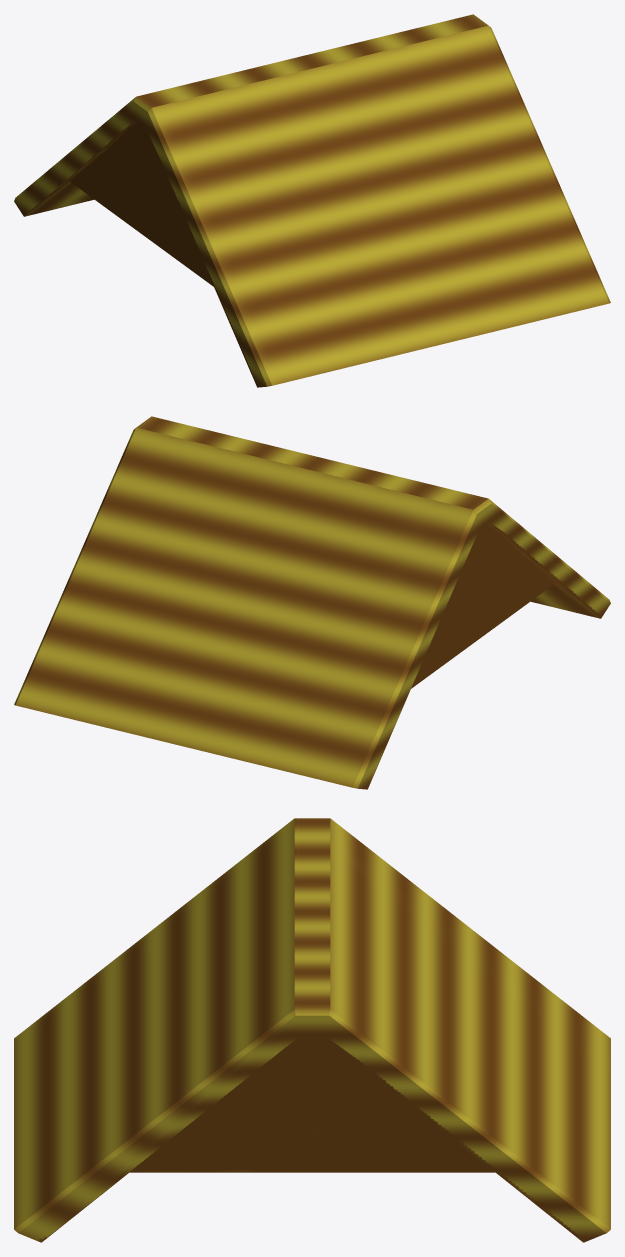
The model's file is LongRoof.glb.
3 views of the same model, one above another, from view 1: azimuth 30°, elevation 25°; view 2: azimuth 150°, elevation 25°; view 3: azimuth 270°, elevation 25° (orthographic). The views are drawn at different scales.
Visible parts, largest first — view 1: LongRoof; view 2: LongRoof; view 3: LongRoof.
Boxes of the visible parts, left/top/right/bottom form: LongRoof: left=14, top=14, right=610, bottom=387; LongRoof: left=14, top=416, right=610, bottom=789; LongRoof: left=14, top=818, right=610, bottom=1242.
Bounding box in the file's own units: 1.05 × 0.5795 × 1.35.
Materials: 1 (1 with a texture image).
